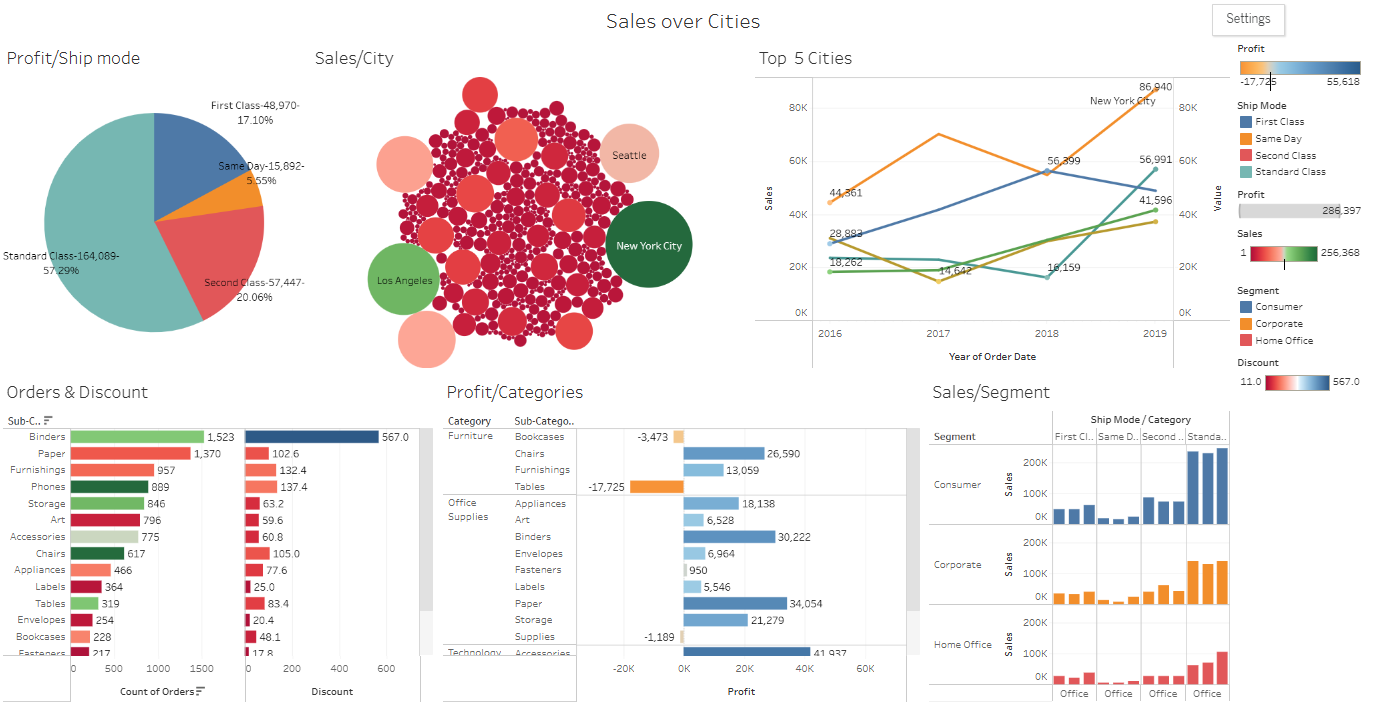

The page's visual inventory and layout, read from the dashboard file:
{"tool":"tableau","page":{"name":"Dashboard 1","canvas":[1657,861],"ordinal":0},"visuals":[{"type":"title","box":[8,8,1641,42]},{"type":"worksheet","title":"Profit/Ship mode","mark":"Pie","box":[8,50,370.2,401.5]},{"type":"worksheet","title":"Sales/City","mark":"Circle","box":[378.2,50,532.7,401.5]},{"type":"worksheet","title":"Top  5 Cities","mark":"Automatic","rows":["Sales"],"cols":["Order Date"],"box":[910.9,50,578.1,401.5]},{"type":"legend","title":"Profit/Categories","param":"[federated.03xgwp51u4pz5c1ejlw861bd255g].[sum:Profit:qk]","box":[1489,50,160,68]},{"type":"legend","title":"Profit/Ship mode","param":"[federated.03xgwp51u4pz5c1ejlw861bd255g].[none:Ship Mode:nk]","box":[1489,118,160,107]},{"type":"legend","title":"Profit/Ship mode","param":"[federated.03xgwp51u4pz5c1ejlw861bd255g].[sum:Profit:qk]","box":[1489,225,160,47]},{"type":"legend","title":"Sales/City","param":"[federated.03xgwp51u4pz5c1ejlw861bd255g].[sum:Sales:qk]","box":[1489,272,160,68]},{"type":"legend","title":"Sales/Segment","param":"[federated.03xgwp51u4pz5c1ejlw861bd255g].[none:Segment:nk]","box":[1489,340,160,87]},{"type":"legend","title":"Orders & Discount","param":"[federated.03xgwp51u4pz5c1ejlw861bd255g].[sum:Discount:qk]","box":[1489,427,160,68]},{"type":"worksheet","title":"Orders & Discount","mark":"Automatic","rows":["Sub-Category"],"cols":["Orders_F398314C82BB4074B18281E6DE62748C","Discount"],"box":[8,451.5,528,401.5]},{"type":"worksheet","title":"Profit/Categories","mark":"Automatic","rows":["Category","Sub-Category"],"cols":["Profit"],"box":[536,451.5,582.7,401.5]},{"type":"worksheet","title":"Sales/Segment","mark":"Automatic","rows":["Segment","Sales"],"cols":["Ship Mode","Category"],"box":[1118.7,451.5,370.3,401.5]}]}

Visuals, with their boxes on the page's 1657x861 design canvas (x1, y1, x2, y2). These are canvas units, not pixel positions in the 1393x702 screenshot, which may show the page scaled, cropped or inside an application window:
title: {"x1": 8, "y1": 8, "x2": 1649, "y2": 50}
"Profit/Ship mode" worksheet (Pie marks): {"x1": 8, "y1": 50, "x2": 378, "y2": 452}
"Sales/City" worksheet (Circle marks): {"x1": 378, "y1": 50, "x2": 911, "y2": 452}
"Top  5 Cities" worksheet: {"x1": 911, "y1": 50, "x2": 1489, "y2": 452}
"Profit/Categories" legend: {"x1": 1489, "y1": 50, "x2": 1649, "y2": 118}
"Profit/Ship mode" legend: {"x1": 1489, "y1": 118, "x2": 1649, "y2": 225}
"Profit/Ship mode" legend: {"x1": 1489, "y1": 225, "x2": 1649, "y2": 272}
"Sales/City" legend: {"x1": 1489, "y1": 272, "x2": 1649, "y2": 340}
"Sales/Segment" legend: {"x1": 1489, "y1": 340, "x2": 1649, "y2": 427}
"Orders & Discount" legend: {"x1": 1489, "y1": 427, "x2": 1649, "y2": 495}
"Orders & Discount" worksheet: {"x1": 8, "y1": 452, "x2": 536, "y2": 853}
"Profit/Categories" worksheet: {"x1": 536, "y1": 452, "x2": 1119, "y2": 853}
"Sales/Segment" worksheet: {"x1": 1119, "y1": 452, "x2": 1489, "y2": 853}
